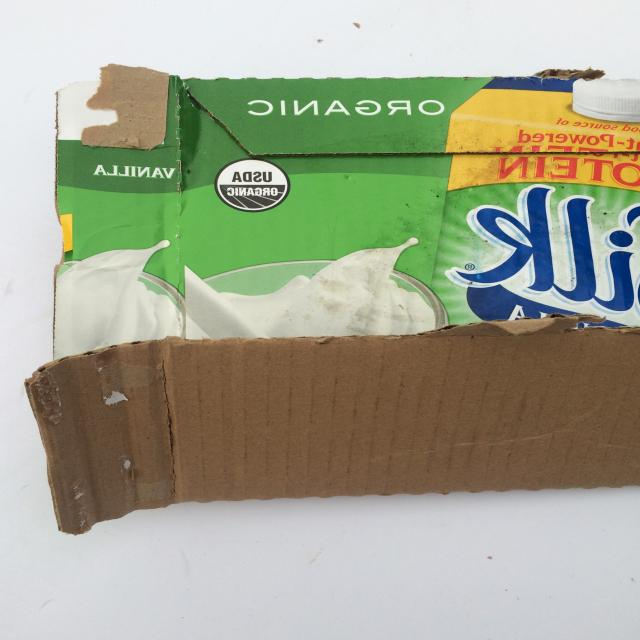cardboard: (18, 58, 640, 552)
